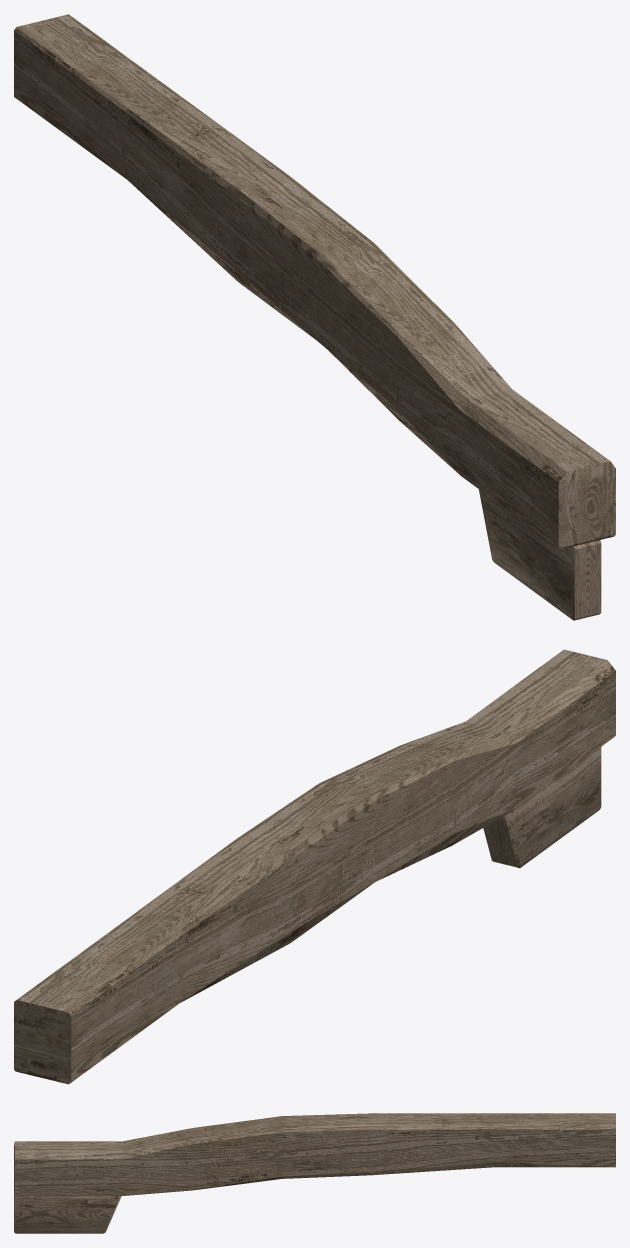
The model's file is SM_GPG_Toetbo02a.fbx.
3 renders of one model, top to bottom at view 1: azimuth 30°, elevation 25°; view 2: azimuth 150°, elevation 25°; view 3: azimuth 270°, elevation 25°, orthographic. The views are drawn at different scales.
Parts seen in each view (by area): view 1: SM_GPG_Toetbo02a; view 2: SM_GPG_Toetbo02a; view 3: SM_GPG_Toetbo02a.
Boxes of the visible parts, <box> form: SM_GPG_Toetbo02a: <box>14,14,615,620</box>; SM_GPG_Toetbo02a: <box>14,649,615,1084</box>; SM_GPG_Toetbo02a: <box>14,1113,615,1233</box>.
Size of the model in its own units: 20 by 330 by 66.32.
Materials: 1 (1 with a texture image).
